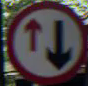Two way: (13, 10, 74, 73)
